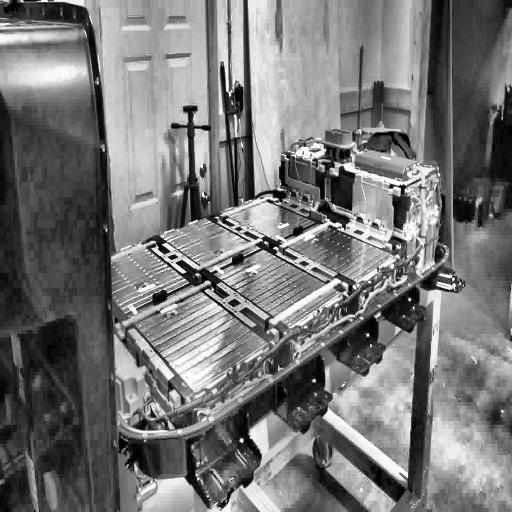battery_module: (127, 283, 268, 393), (215, 249, 344, 330), (280, 222, 394, 283), (159, 219, 262, 273), (111, 243, 190, 312), (222, 198, 316, 240)
bms_unit: (352, 144, 424, 181)
busbar: (280, 150, 330, 225), (138, 357, 181, 411), (379, 184, 403, 254), (316, 152, 342, 182)
connector: (320, 125, 357, 161)
high_volt_cable: (191, 163, 432, 419)
low_volt_cable: (123, 157, 445, 426)
